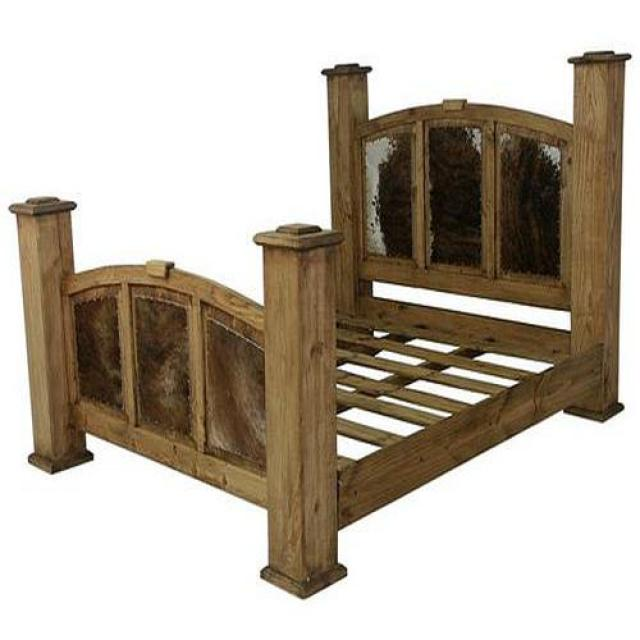bed: (10, 52, 632, 584)
